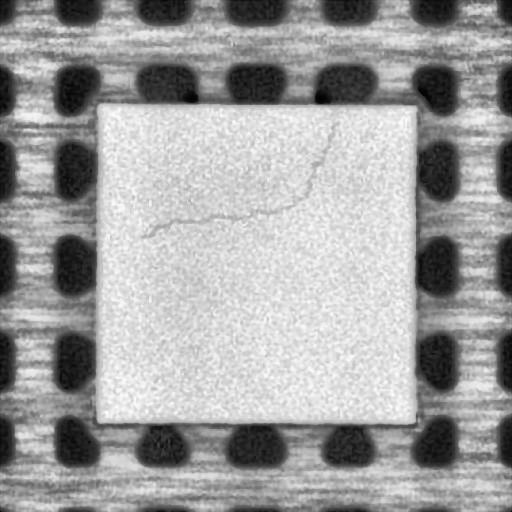DIE_CRACK: (141, 120, 347, 235)
